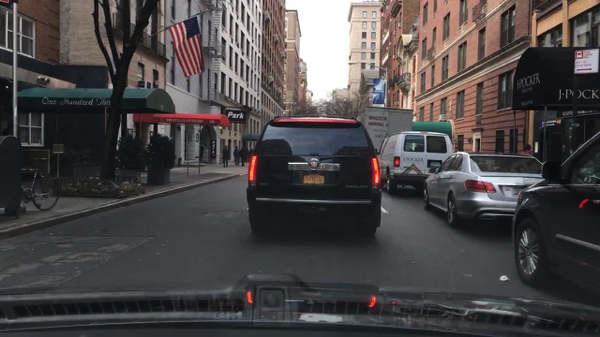bike: (22, 157, 60, 212)
car: (246, 116, 382, 237), (510, 131, 599, 299), (422, 151, 546, 226), (374, 131, 456, 195)
person: (520, 144, 537, 158), (222, 146, 229, 167), (233, 146, 239, 165), (240, 146, 245, 167), (200, 143, 205, 163), (244, 147, 249, 155)
traffic sign: (572, 49, 597, 73)
truck: (361, 107, 413, 155)
